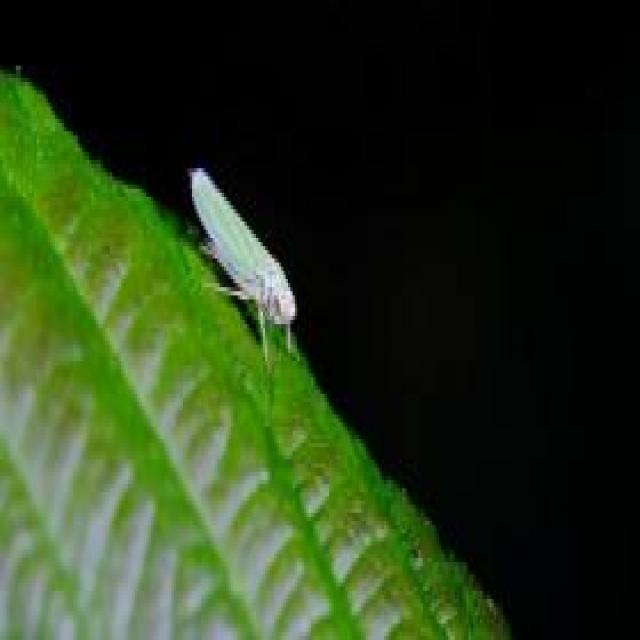Yechan: (182, 158, 304, 354)
